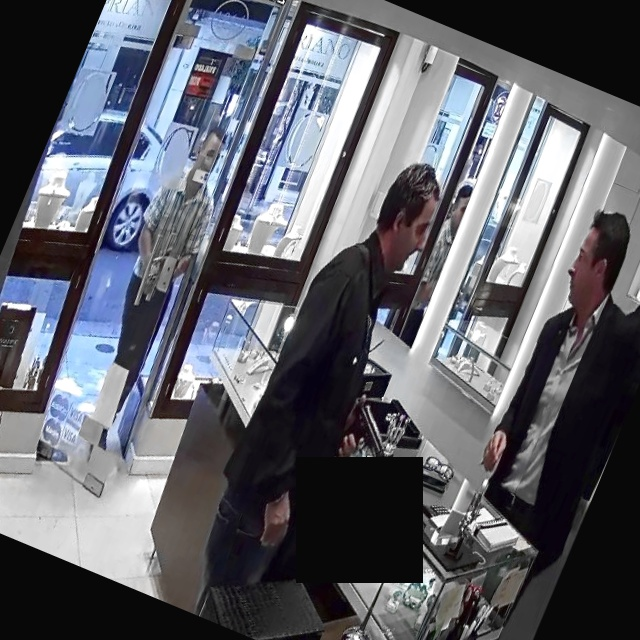gun: (319, 379, 413, 457)
